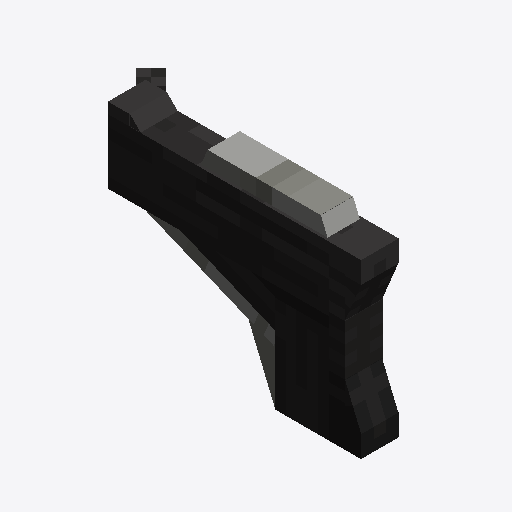
A Minecraft block model of 15 cuboids, rendered isometrically (azimuth 45°, elevation 35.3°) with the resource pack's own textures.
Parts seen in each view (by area): Stock 7, Stock 3, Stock 8, Stock 2, Stock 5 (×3), Stock 13, Stock 4 (×2), Stock 6, Stock 9, Stock 12.
Boxes of the visible parts, box(x1,y1,x2,y2) form: Stock 7: box(108, 111, 365, 315); Stock 3: box(275, 285, 328, 439); Stock 8: box(208, 131, 352, 232); Stock 2: box(329, 220, 382, 449); Stock 5 (×3): box(130, 93, 398, 433); Stock 13: box(147, 211, 274, 345); Stock 4 (×2): box(108, 80, 398, 458); Stock 6: box(345, 264, 397, 319); Stock 9: box(311, 197, 359, 237); Stock 12: box(249, 320, 274, 406).
Bounding box in the file's own units: 1.08 × 3.5 × 4.98.